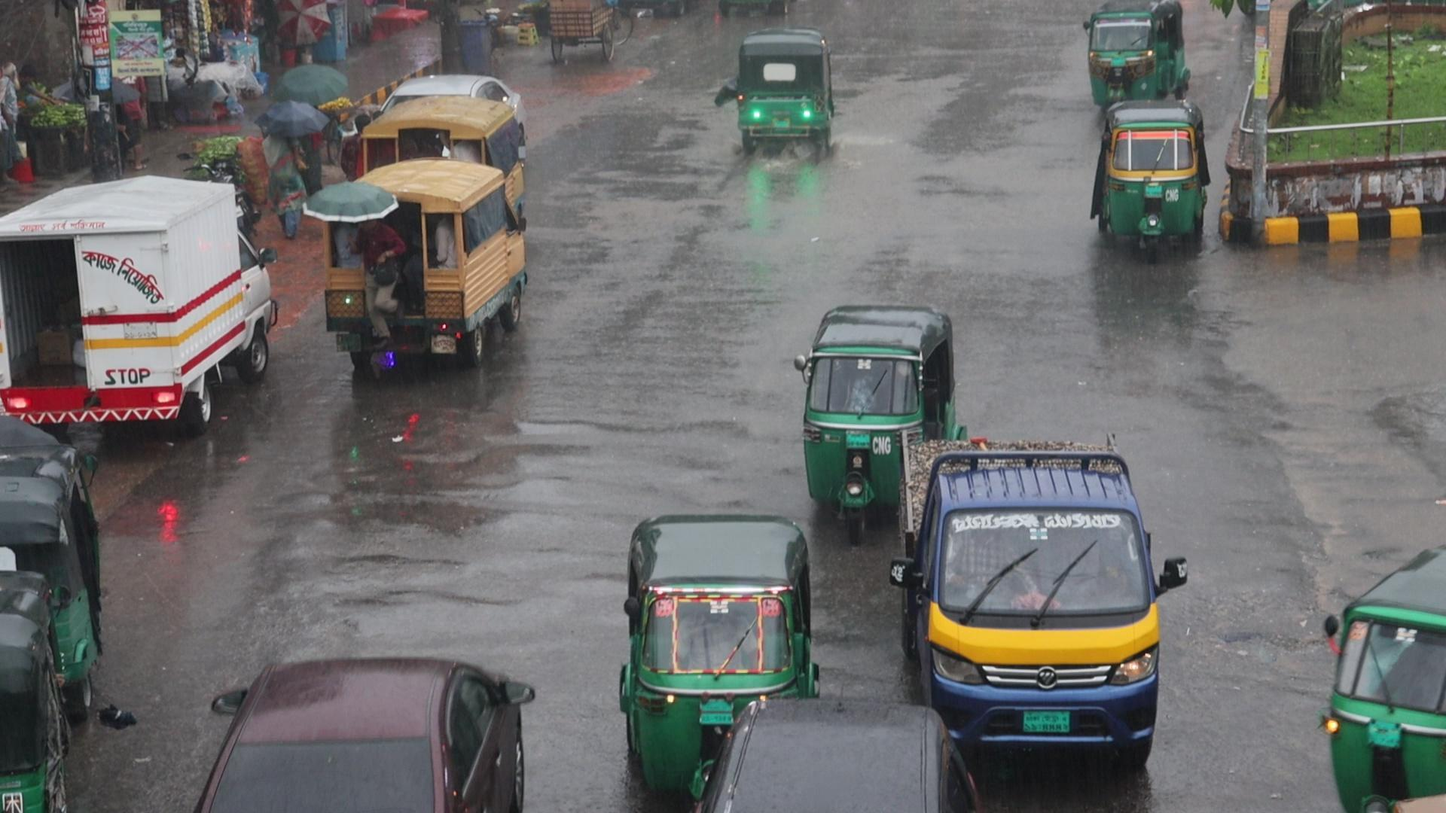Truck: (892, 439, 1155, 789), (309, 155, 522, 384)
